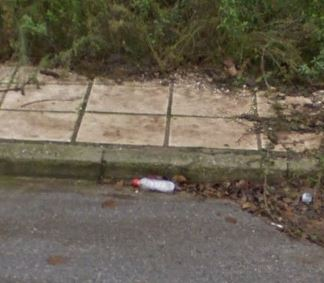trash: (124, 167, 186, 196), (298, 183, 316, 208)
